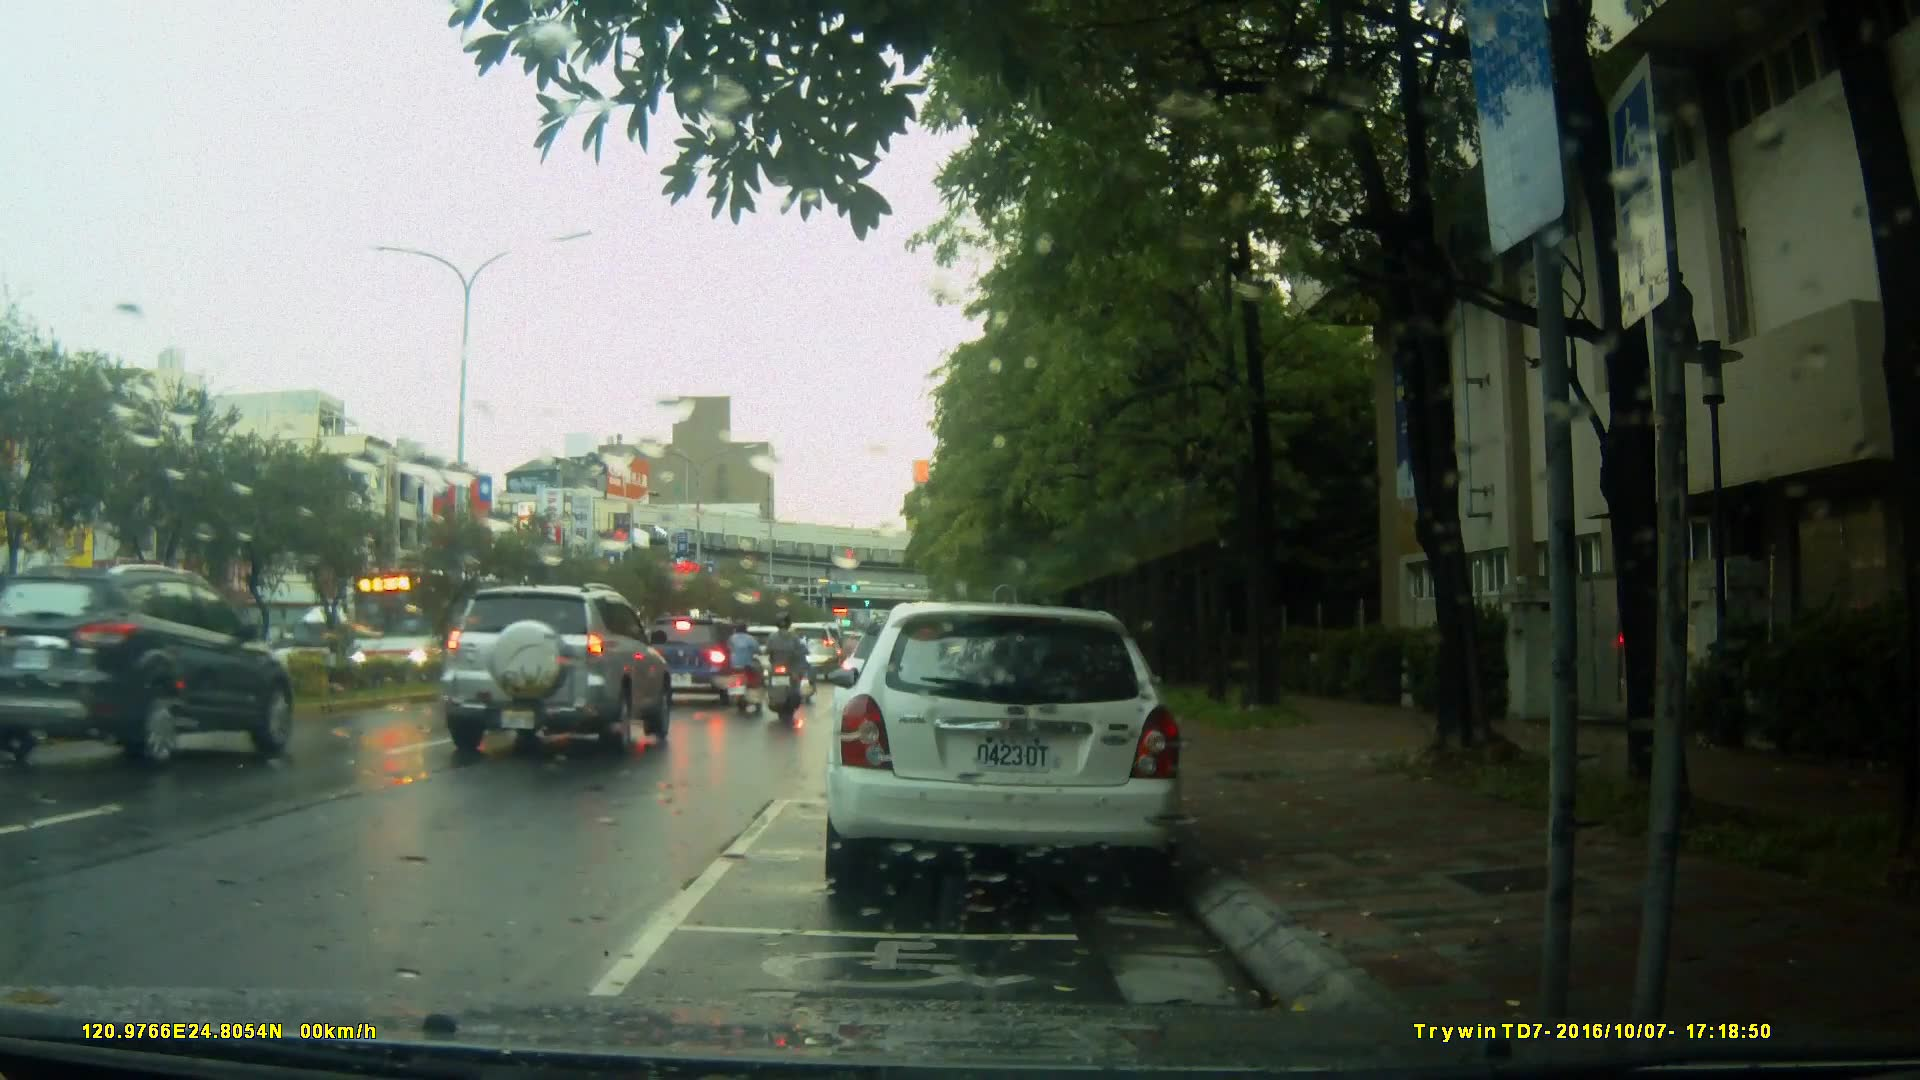rider: (760, 608, 805, 724), (729, 619, 764, 711), (780, 625, 816, 711)
vehicle: (820, 602, 1188, 898), (1, 562, 308, 772), (435, 581, 675, 755), (638, 613, 764, 706)
